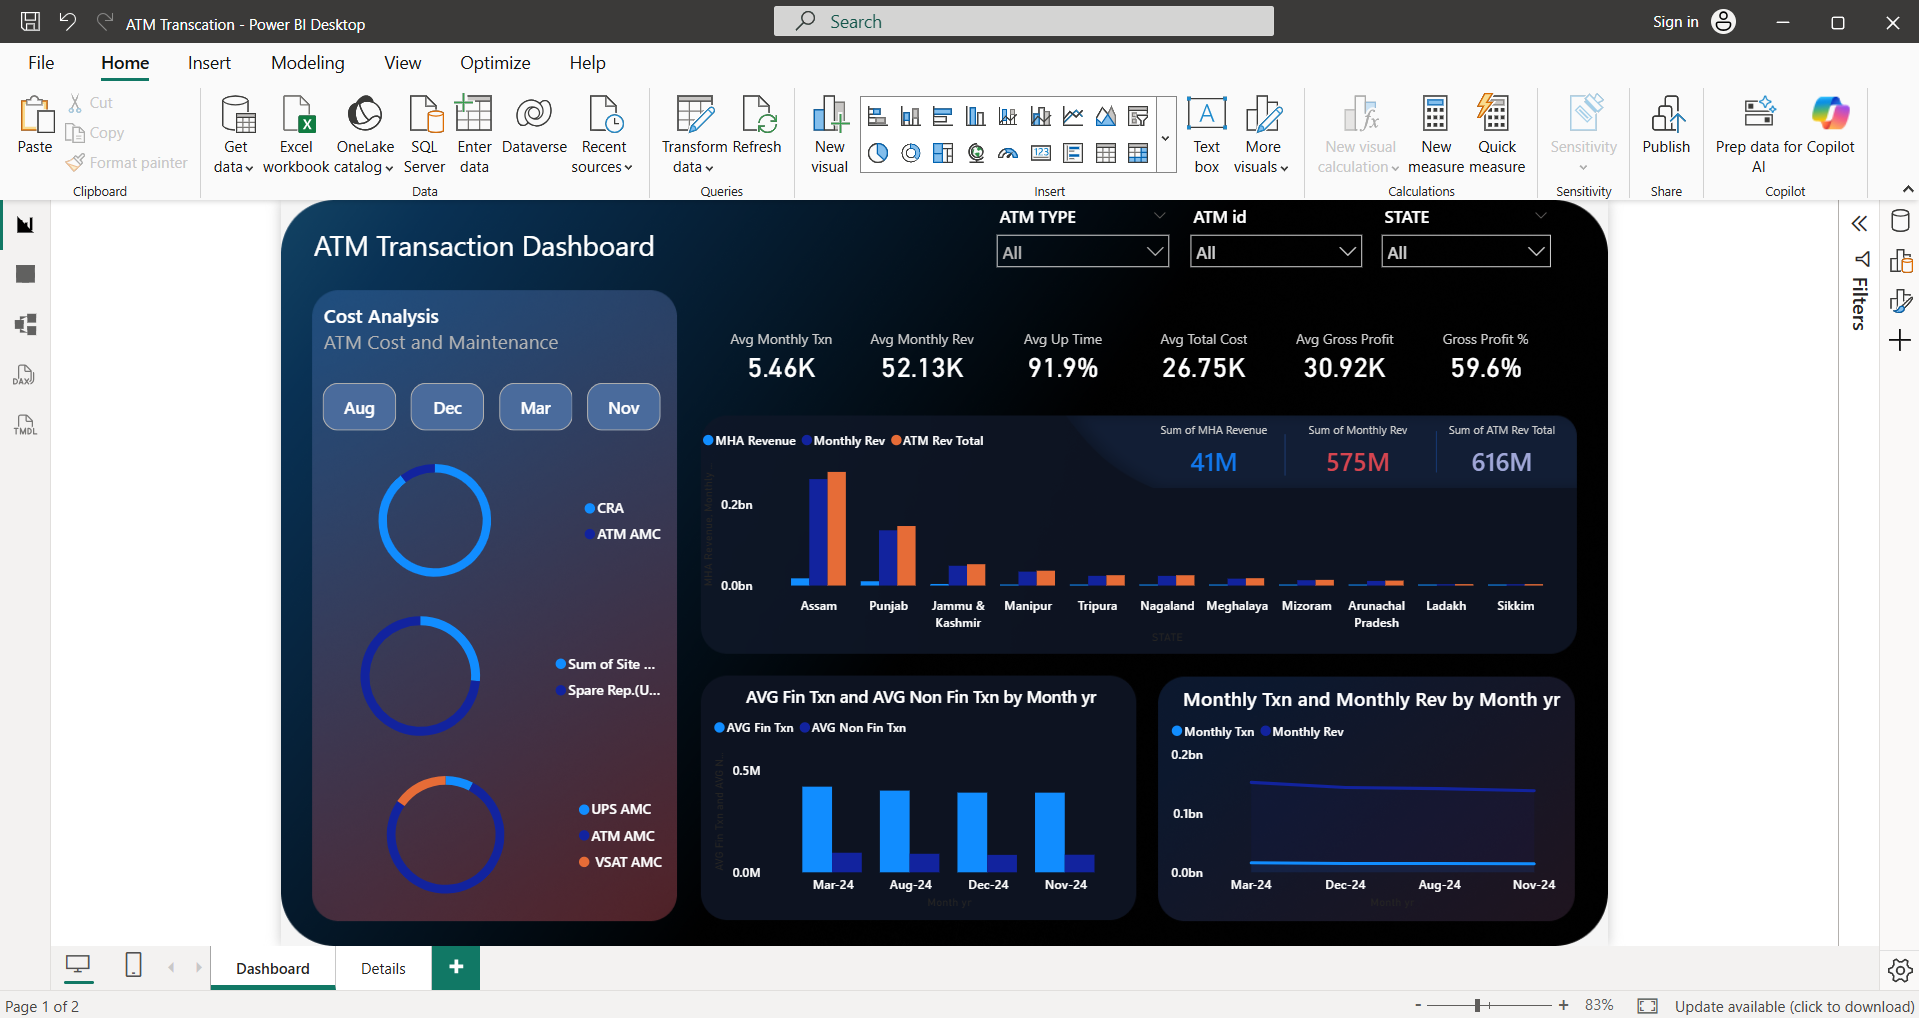

The page's visual inventory and layout, read from the dashboard file:
{"tool":"powerbi","page":{"name":"Dashboard","canvas":[1280,720],"ordinal":0},"visuals":[{"type":"donutChart","fields":{"Y":["Sum(Sheet1.CRA)","Sum(Sheet1.ATM AMC)"]},"box":[0,236.5,381.2,146],"z":0},{"type":"slicer","fields":{"Values":["Sheet1.ATM TYPE"]},"box":[680.4,0,187,70],"z":1000},{"type":"donutChart","fields":{"Y":["Sum(Sheet1.Site Maint (Non Asset))","Sum(Sheet1.Spare Rep.(UPS))"]},"box":[0,382.4,381.2,154.4],"z":2000},{"type":"slicer","fields":{"Values":["Sheet1.ATM id"]},"box":[867.4,0,185.8,72.4],"z":3000},{"type":"donutChart","fields":{"Y":["Sum(Sheet1.UPS AMC)","Sum(Sheet1.ATM AMC)","Sum(Sheet1.VSAT AMC)"]},"box":[26.5,536.9,355.9,152],"z":4000},{"type":"slicer","fields":{"Values":["Sheet1.STATE"]},"box":[1052,0,183.4,70],"z":5000},{"type":"clusteredColumnChart","fields":{"Y":["Sum(Sheet1.MHA Revenue)","Sum(Sheet1.Monthly Rev)","Sum(Sheet1.ATM Rev Total)"],"Category":["Sheet1.STATE"]},"box":[401.7,212.3,849.3,220.8],"z":6000},{"type":"clusteredColumnChart","fields":{"Y":["Sum(Sheet1.AVG Fin Txn)","Sum(Sheet1.AVG Non Fin Txn)"],"Category":["Sheet1.Month yr"]},"box":[412.6,468.1,410.2,220.8],"z":7000},{"type":"areaChart","fields":{"Category":["Sheet1.Month yr"],"Y":["Sum(Sheet1.Monthly Txn)","Sum(Sheet1.Monthly Rev)"]},"box":[854.2,468.1,396.9,220.8],"z":8000},{"type":"advancedSlicerVisual","fields":{"Values":["Sheet1.Short_month"]},"box":[36.2,172.5,336.6,54.3],"z":9000},{"type":"textbox","box":[36.2,94.1,336.6,66.4],"z":10000},{"type":"cardVisual","fields":{"Data":["Avg(Sheet1.Monthly Txn)","Avg(Sheet1.Monthly Rev)","Avg(Sheet1.Up Time)","Avg(Sheet1. Total Cost  )","Avg(Sheet1. Gross Profit )","Sheet1.Gross Profit Percentage"]},"box":[410.2,103.8,825.2,94.1],"z":11000},{"type":"cardVisual","fields":{"Data":["Sum(Sheet1.MHA Revenue)","Sum(Sheet1.Monthly Rev)","Sum(Sheet1.ATM Rev Total)"]},"box":[826.4,197.4,426.7,83.4],"z":12000},{"type":"textbox","box":[26.5,20.5,349.9,49.5],"z":13000}]}

Visuals, with their boxes on the page's 1280x720 design canvas (x1, y1, x2, y2). These are canvas units, not pixel positions in the 1919x1018 screenshot, which may show the page scaled, cropped or inside an application window:
donutChart - Sum(Sheet1.CRA) x Sum(Sheet1.ATM AMC): box(0, 236, 381, 382)
slicer - Sheet1.ATM TYPE: box(680, 0, 867, 70)
donutChart - Sum(Sheet1.Site Maint (Non Asset)) x Sum(Sheet1.Spare Rep.(UPS)): box(0, 382, 381, 537)
slicer - Sheet1.ATM id: box(867, 0, 1053, 72)
donutChart - Sum(Sheet1.UPS AMC) x Sum(Sheet1.ATM AMC): box(26, 537, 382, 689)
slicer - Sheet1.STATE: box(1052, 0, 1235, 70)
clusteredColumnChart - Sum(Sheet1.MHA Revenue) x Sum(Sheet1.Monthly Rev): box(402, 212, 1251, 433)
clusteredColumnChart - Sum(Sheet1.AVG Fin Txn) x Sum(Sheet1.AVG Non Fin Txn): box(413, 468, 823, 689)
areaChart - Sheet1.Month yr x Sum(Sheet1.Monthly Txn): box(854, 468, 1251, 689)
advancedSlicerVisual - Sheet1.Short_month: box(36, 172, 373, 227)
textbox: box(36, 94, 373, 160)
cardVisual - Avg(Sheet1.Monthly Txn) x Avg(Sheet1.Monthly Rev): box(410, 104, 1235, 198)
cardVisual - Sum(Sheet1.MHA Revenue) x Sum(Sheet1.Monthly Rev): box(826, 197, 1253, 281)
textbox: box(26, 20, 376, 70)
